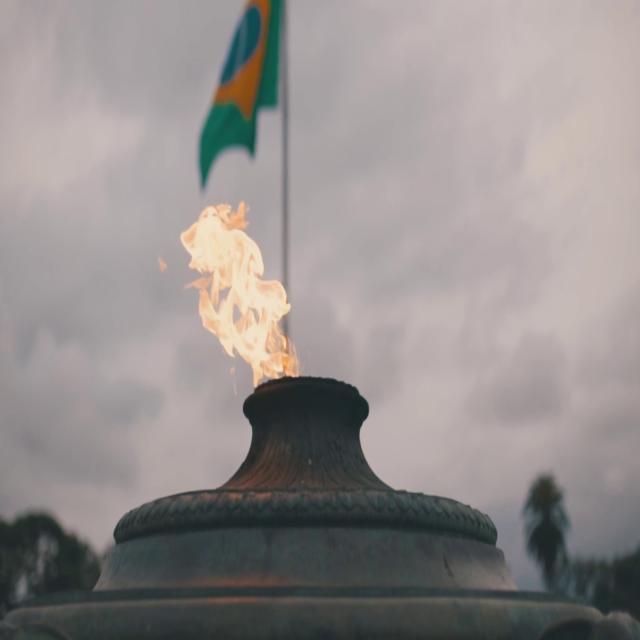Fire: (177, 202, 296, 386)
